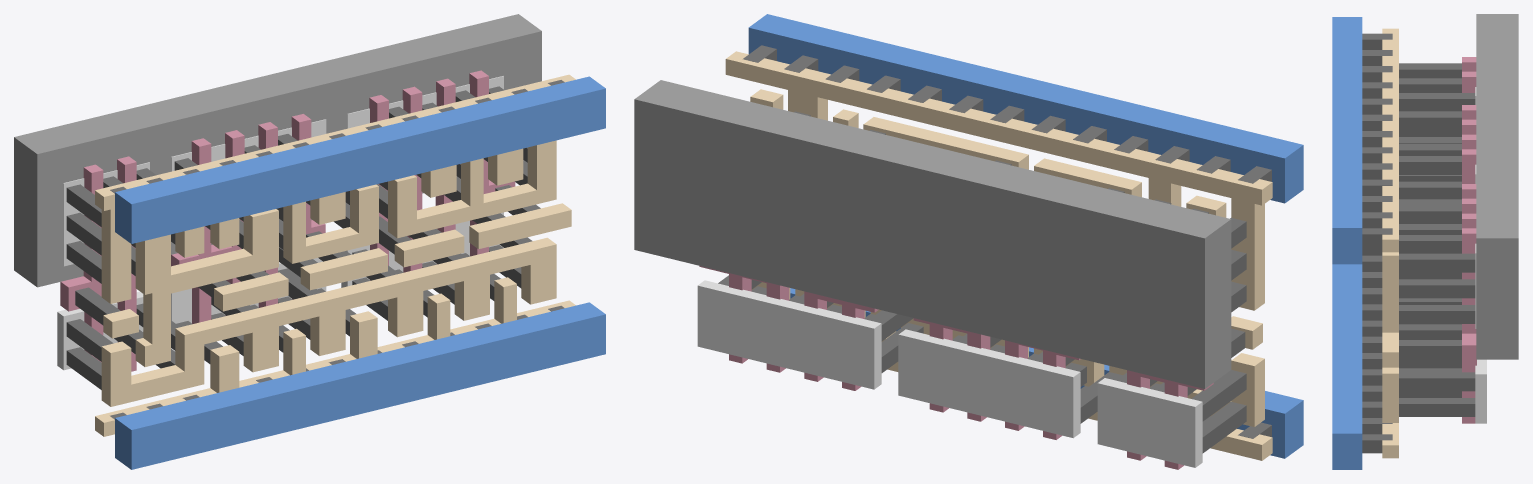
File: sky130_fd_sc_hd__o41ai_2.gds.gltf
3 views of the same model, side by side, from view 1: azimuth 30°, elevation 25°; view 2: azimuth 150°, elevation 25°; view 3: azimuth 270°, elevation 25° (orthographic). The views are drawn at different scales.
Parts seen in each view (by area): view 1: sky130_fd_sc_hd__o41ai_2_li1, sky130_fd_sc_hd__o41ai_2_met1, sky130_fd_sc_hd__o41ai_2_nwell, sky130_fd_sc_hd__o41ai_2_licon, sky130_fd_sc_hd__o41ai_2_poly, sky130_fd_sc_hd__o41ai_2_diff, sky130_fd_sc_hd__o41ai_2_mcon; view 2: sky130_fd_sc_hd__o41ai_2_nwell, sky130_fd_sc_hd__o41ai_2_diff, sky130_fd_sc_hd__o41ai_2_li1, sky130_fd_sc_hd__o41ai_2_met1, sky130_fd_sc_hd__o41ai_2_licon, sky130_fd_sc_hd__o41ai_2_mcon, sky130_fd_sc_hd__o41ai_2_poly; view 3: sky130_fd_sc_hd__o41ai_2_licon, sky130_fd_sc_hd__o41ai_2_nwell, sky130_fd_sc_hd__o41ai_2_met1, sky130_fd_sc_hd__o41ai_2_mcon, sky130_fd_sc_hd__o41ai_2_li1, sky130_fd_sc_hd__o41ai_2_poly, sky130_fd_sc_hd__o41ai_2_diff.
Part boxes in pixels (left/top/right/bottom): sky130_fd_sc_hd__o41ai_2_li1: left=95, top=74, right=575, bottom=436; sky130_fd_sc_hd__o41ai_2_met1: left=115, top=76, right=605, bottom=469; sky130_fd_sc_hd__o41ai_2_nwell: left=14, top=14, right=541, bottom=287; sky130_fd_sc_hd__o41ai_2_licon: left=66, top=86, right=540, bottom=389; sky130_fd_sc_hd__o41ai_2_poly: left=60, top=70, right=515, bottom=371; sky130_fd_sc_hd__o41ai_2_diff: left=57, top=76, right=503, bottom=370; sky130_fd_sc_hd__o41ai_2_mcon: left=110, top=80, right=564, bottom=419; sky130_fd_sc_hd__o41ai_2_nwell: left=634, top=80, right=1231, bottom=388; sky130_fd_sc_hd__o41ai_2_diff: left=697, top=280, right=1202, bottom=467; sky130_fd_sc_hd__o41ai_2_li1: left=725, top=51, right=1272, bottom=460; sky130_fd_sc_hd__o41ai_2_met1: left=748, top=14, right=1303, bottom=458; sky130_fd_sc_hd__o41ai_2_licon: left=718, top=111, right=1246, bottom=453; sky130_fd_sc_hd__o41ai_2_mcon: left=743, top=45, right=1271, bottom=438; sky130_fd_sc_hd__o41ai_2_poly: left=699, top=266, right=1213, bottom=469; sky130_fd_sc_hd__o41ai_2_licon: left=1399, top=63, right=1475, bottom=416; sky130_fd_sc_hd__o41ai_2_nwell: left=1476, top=14, right=1518, bottom=359; sky130_fd_sc_hd__o41ai_2_met1: left=1332, top=17, right=1362, bottom=469; sky130_fd_sc_hd__o41ai_2_mcon: left=1362, top=33, right=1392, bottom=453; sky130_fd_sc_hd__o41ai_2_li1: left=1382, top=28, right=1398, bottom=458; sky130_fd_sc_hd__o41ai_2_poly: left=1462, top=57, right=1476, bottom=423; sky130_fd_sc_hd__o41ai_2_diff: left=1475, top=87, right=1486, bottom=423.
Size of the model in its own units: 6.36 by 3.2 by 2.24.
